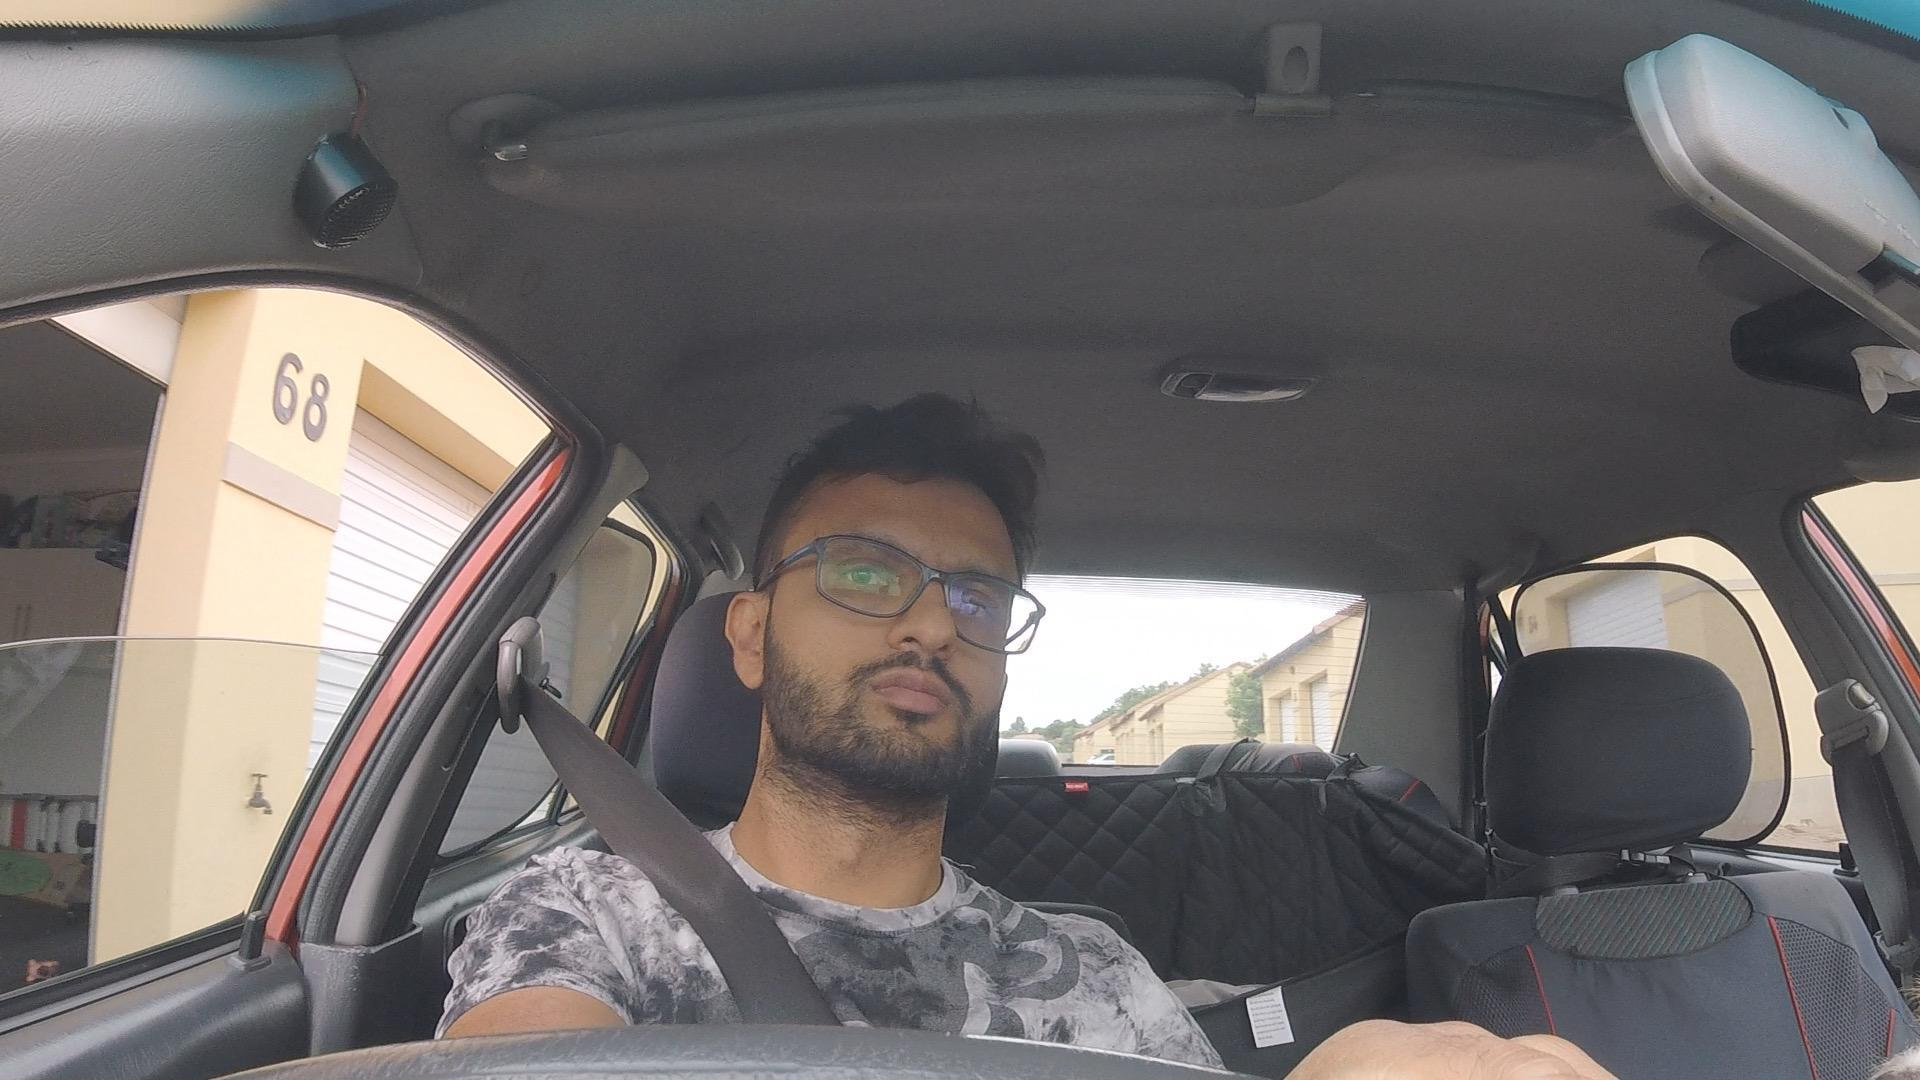SafeDriving: (724, 390, 1047, 802)
